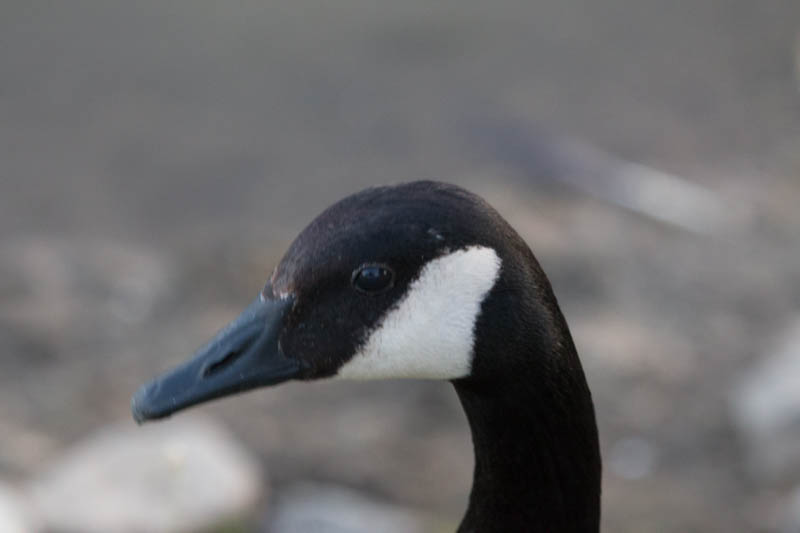goose-head: (128, 180, 571, 425)
